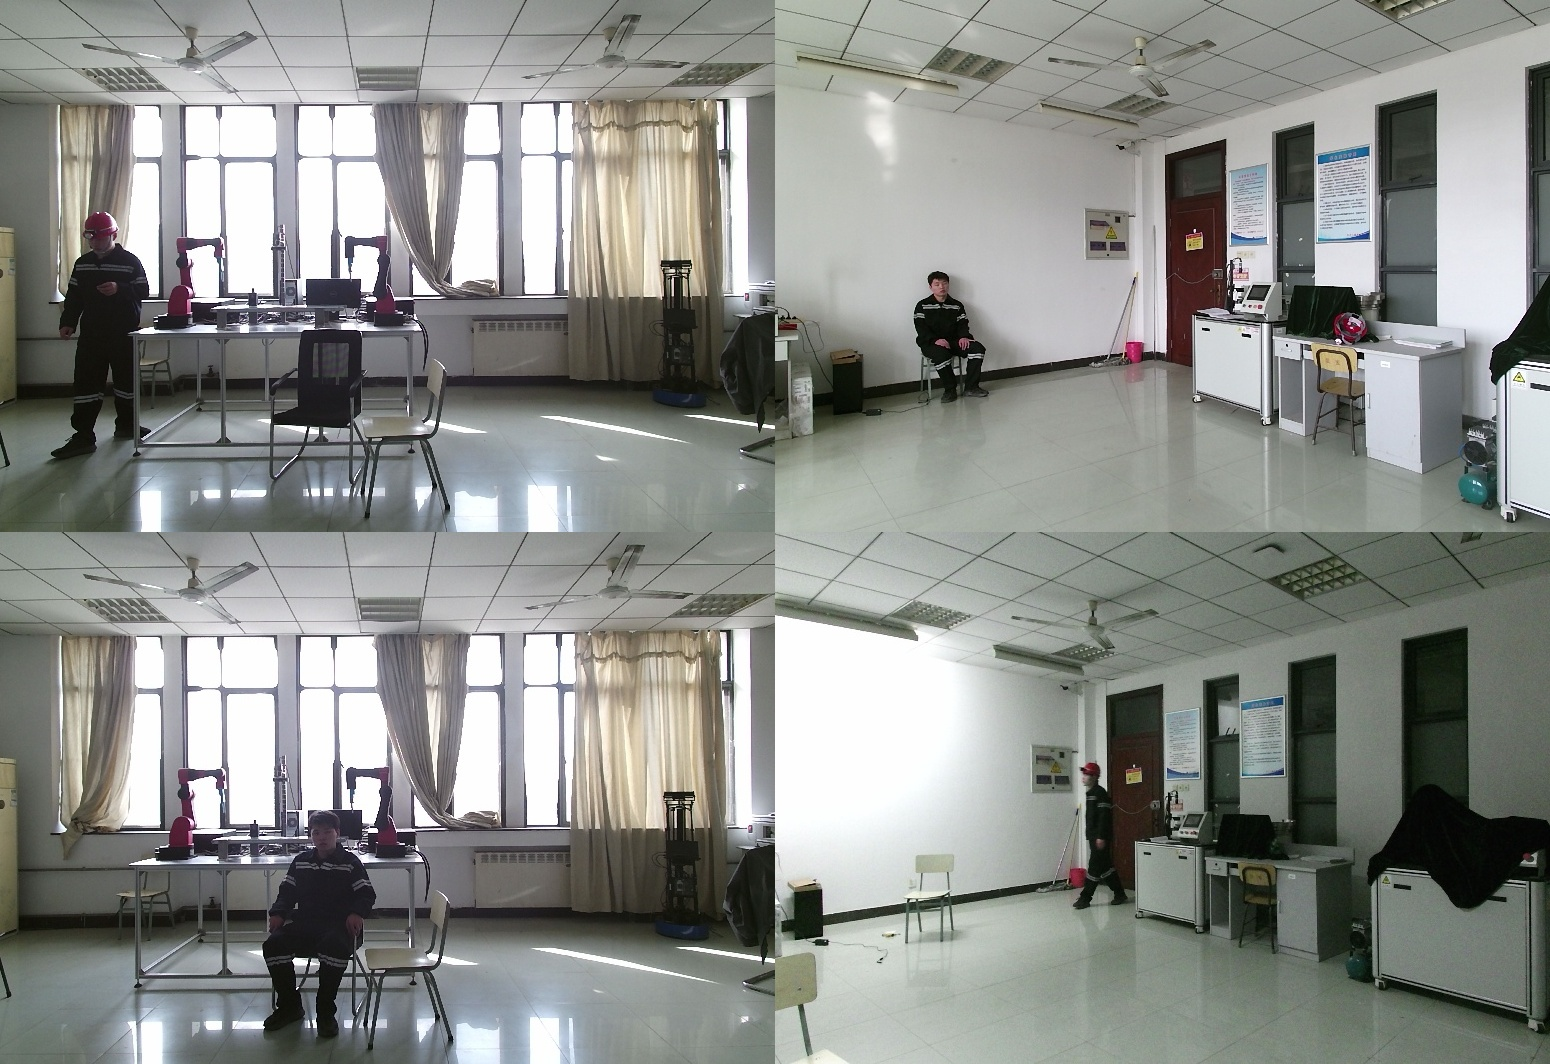person: (261, 812, 383, 1030), (58, 215, 151, 459), (914, 271, 990, 404), (1074, 764, 1126, 912)
